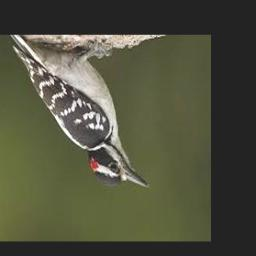Woodpecker: (9, 35, 149, 189)
